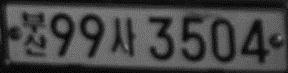0: (210, 16, 236, 63)
3: (148, 15, 173, 60)
4: (241, 17, 270, 64)
5: (181, 14, 206, 62)
9: (79, 12, 105, 58), (50, 11, 75, 57)
부산_V: (21, 10, 47, 56)
사: (111, 16, 136, 56)
